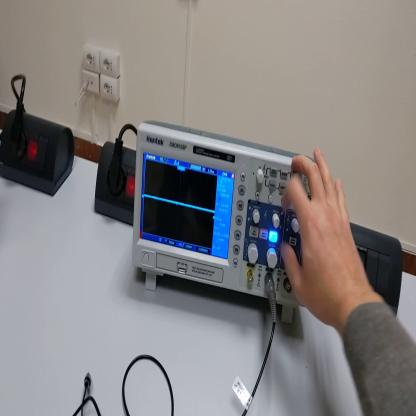hand: (280, 147, 366, 329)
oscilloscope: (128, 124, 313, 330)
socket: (1, 109, 77, 200), (94, 142, 137, 227)
